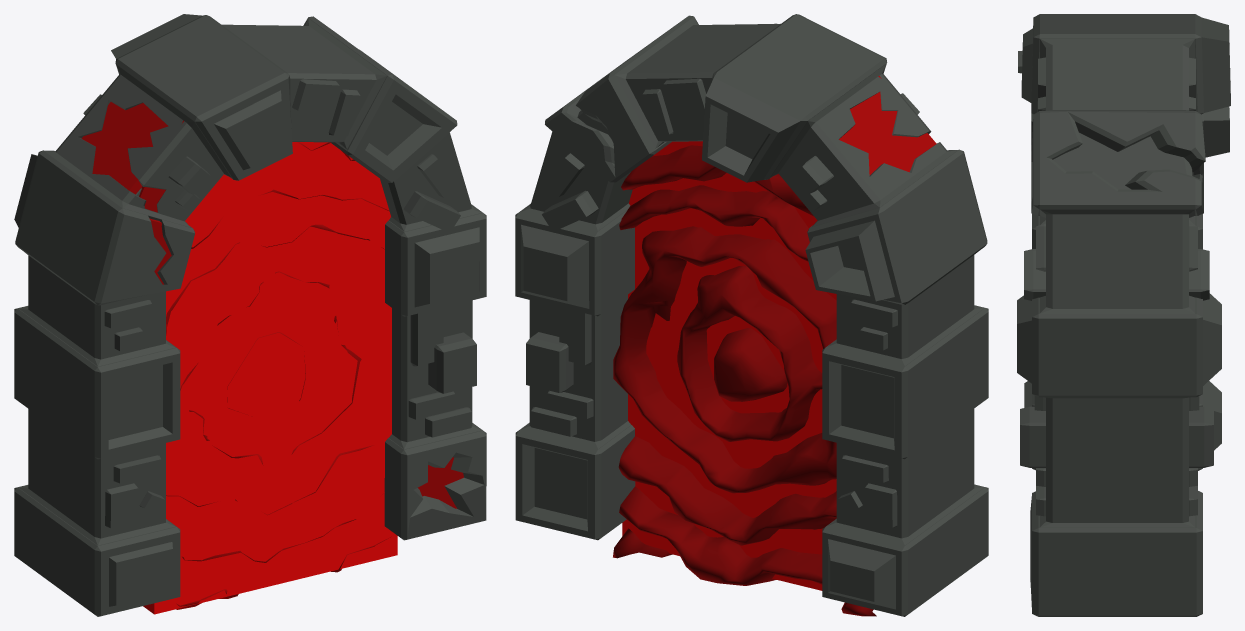
The model's file is Portal.fbx.
3 views of the same model, side by side, from view 1: azimuth 30°, elevation 25°; view 2: azimuth 150°, elevation 25°; view 3: azimuth 270°, elevation 25° (orthographic).
Parts seen in each view (by area): view 1: Portal1; view 2: Portal1; view 3: Portal1.
Boxes of the visible parts, x1,y1,x2,y2 form: Portal1: (14,14,486,616); Portal1: (515,14,988,616); Portal1: (1017,14,1230,616).
Size of the model in its own units: 1297 by 1673 by 622.
